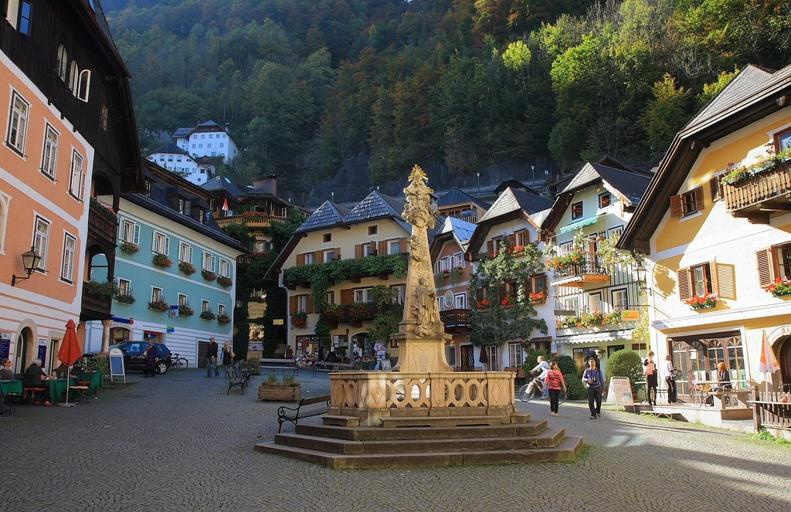non-vehicle: (518, 372, 566, 404), (163, 352, 187, 369)
